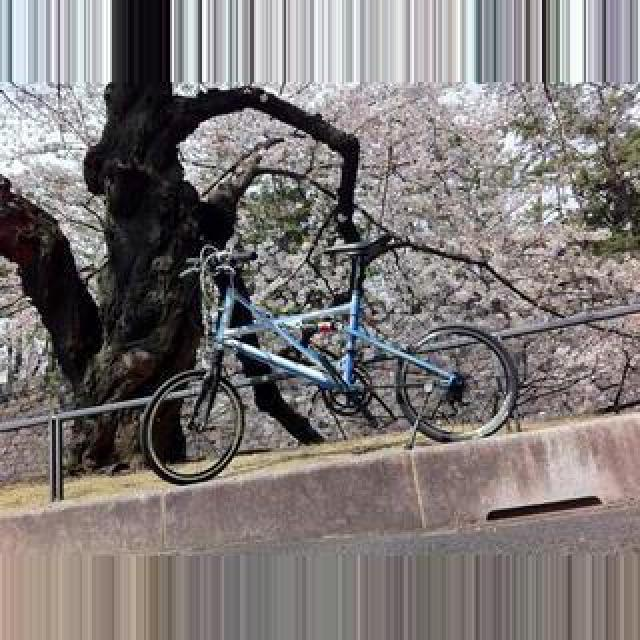Person: (142, 230, 522, 484)
